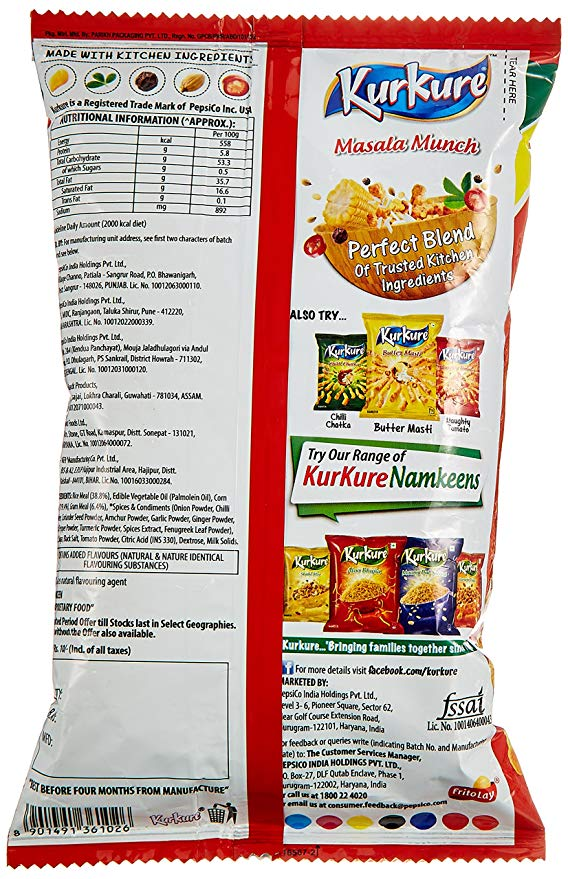kurkure: (320, 57, 488, 129)
plastic: (12, 21, 561, 876)
wrapper: (65, 53, 522, 845)
